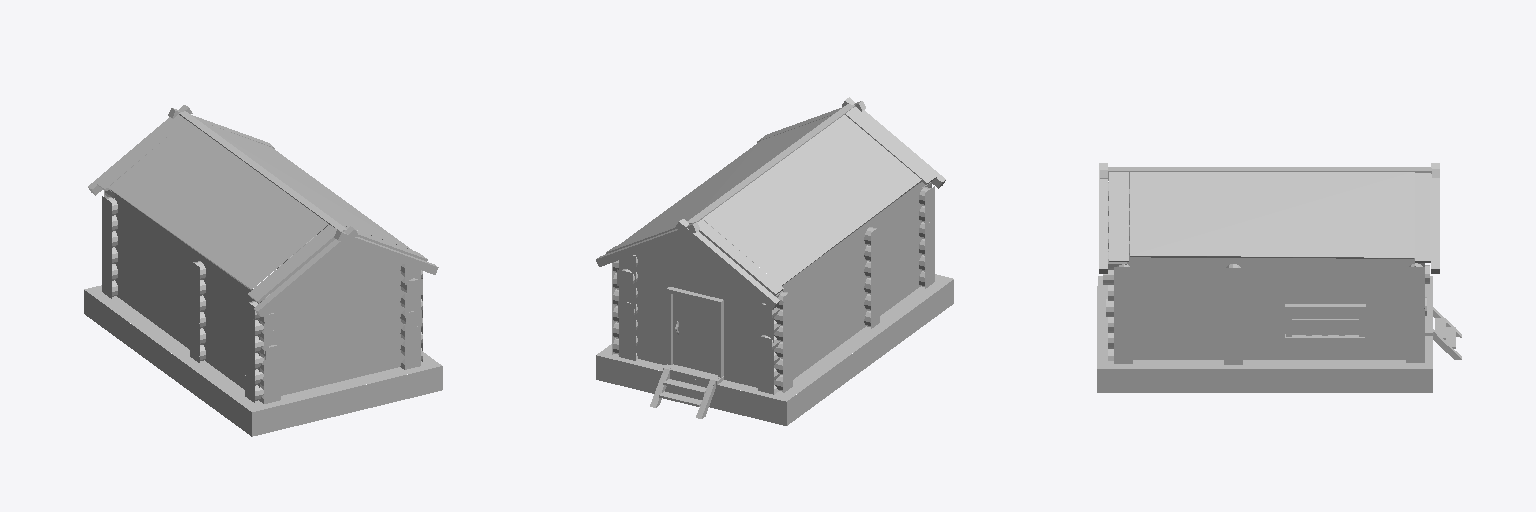
File: Cabaña.obj
3 views of the same model, side by side, from view 1: azimuth 30°, elevation 25°; view 2: azimuth 150°, elevation 25°; view 3: azimuth 270°, elevation 25° (orthographic).
Parts seen in each view (by area): view 1: polySurface195; view 2: polySurface195; view 3: polySurface195.
Boxes of the visible parts, <box> form: polySurface195: <box>84,105,442,436</box>; polySurface195: <box>596,97,953,425</box>; polySurface195: <box>1097,163,1461,392</box>.
Size of the model in its own units: 23.43 by 21.37 by 38.88.